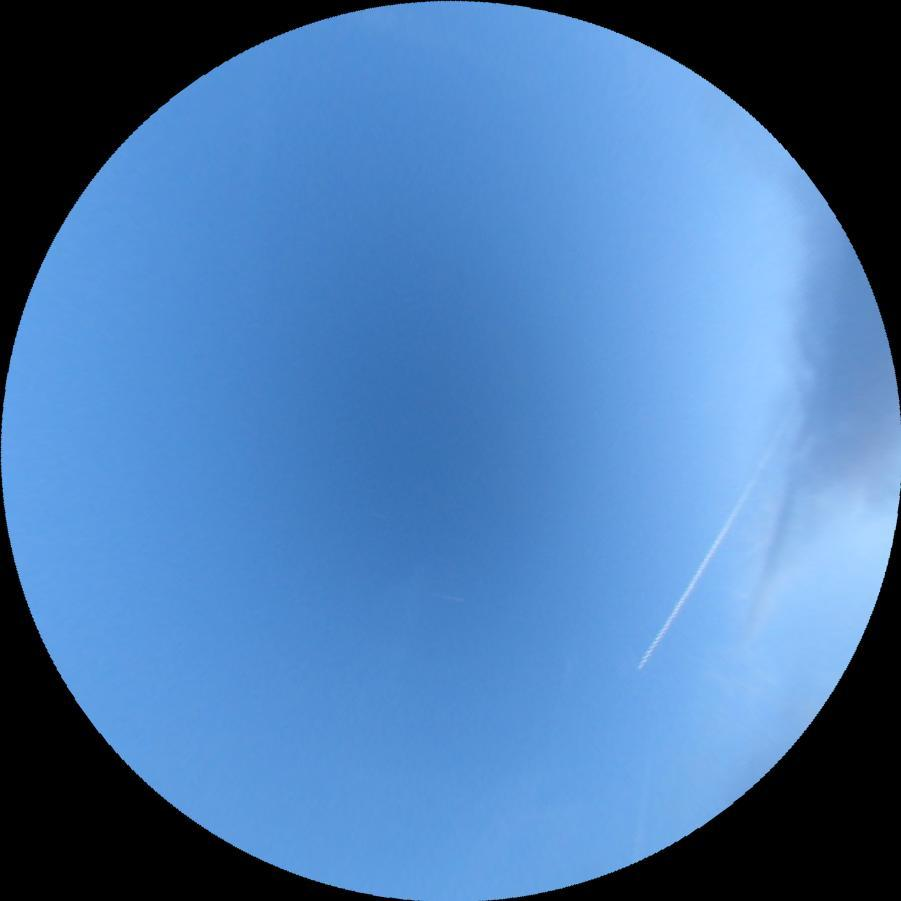contrail old: (636, 417, 792, 670)
contrail young: (437, 592, 465, 603)
